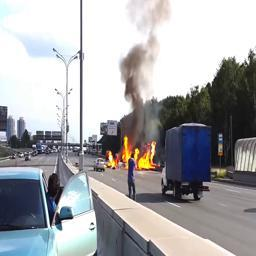fire: (108, 136, 159, 169)
